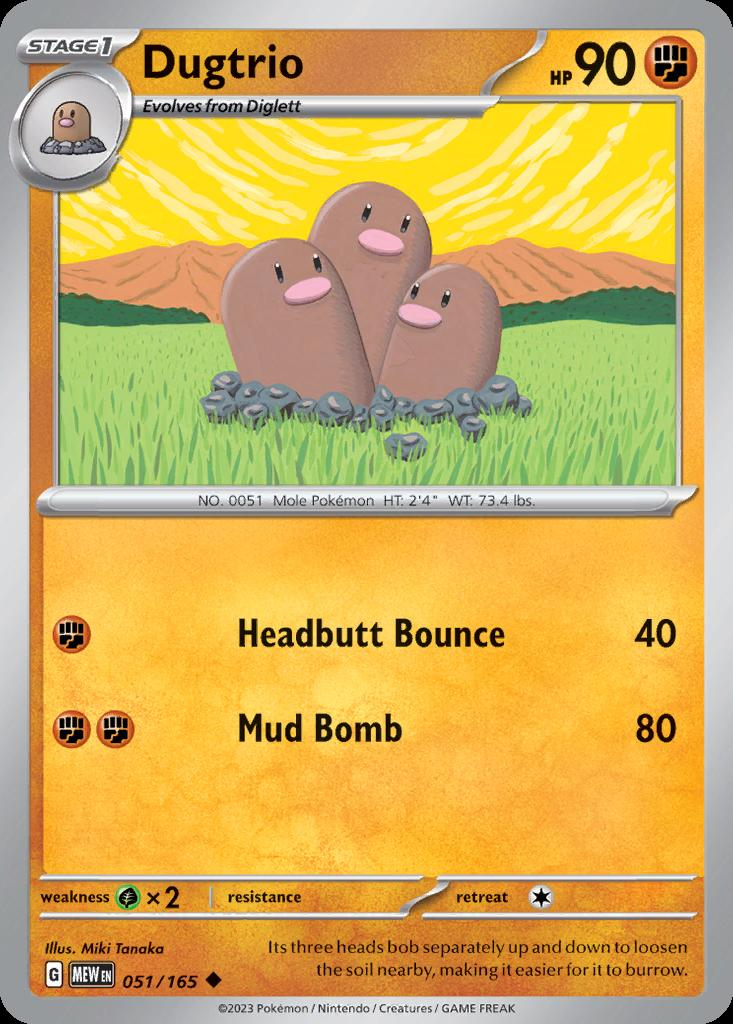card: (1, 6, 733, 1023)
hp: (539, 29, 709, 94)
name: (129, 27, 330, 91)
set num: (121, 963, 206, 993)
set symbol: (41, 957, 120, 990)
